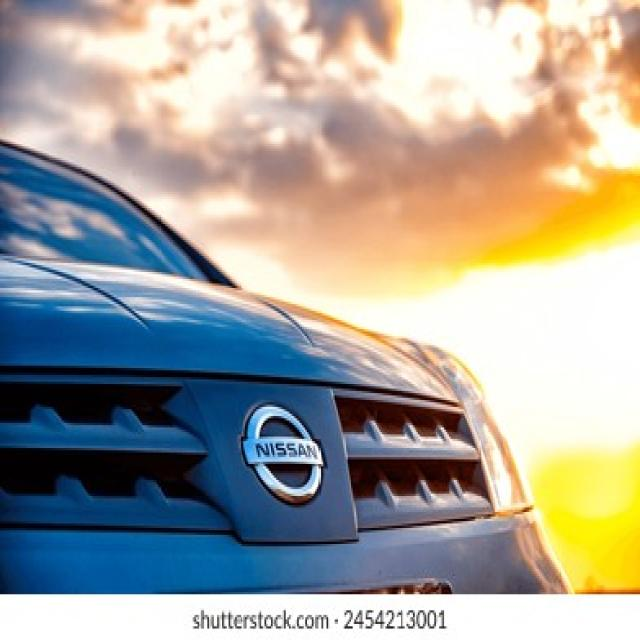nissan: (240, 406, 324, 506)
